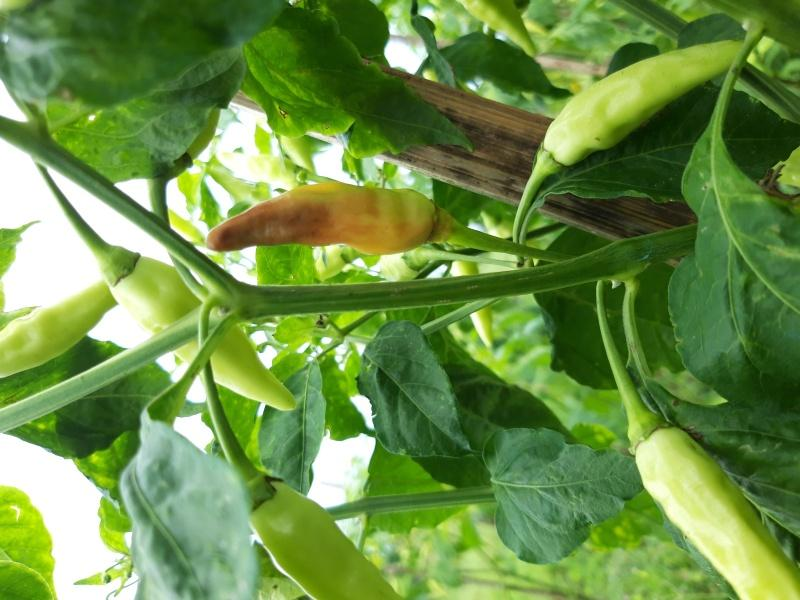cabai_normal: (628, 428, 799, 599), (111, 256, 299, 410), (546, 40, 745, 166), (244, 480, 400, 599), (1, 281, 111, 379)
lalat_buah: (207, 183, 435, 253)
